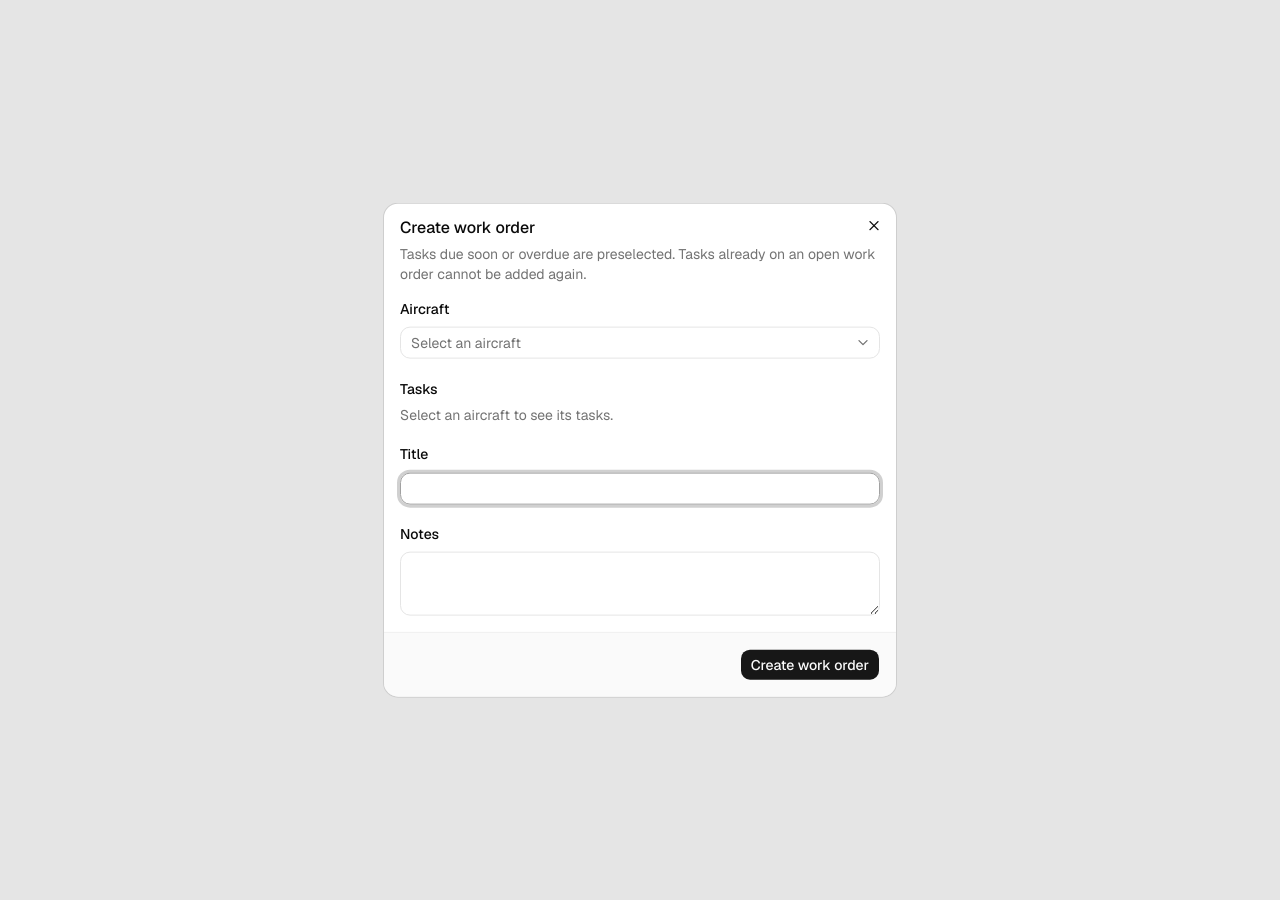
Test: CreateWorkOrderDialog › offers only aircraft that are not retired, and loads tasks for the chosen one
Step 1. Click the dropdown labelled "aircraft" → point(466, 343), box [400, 327, 880, 359]
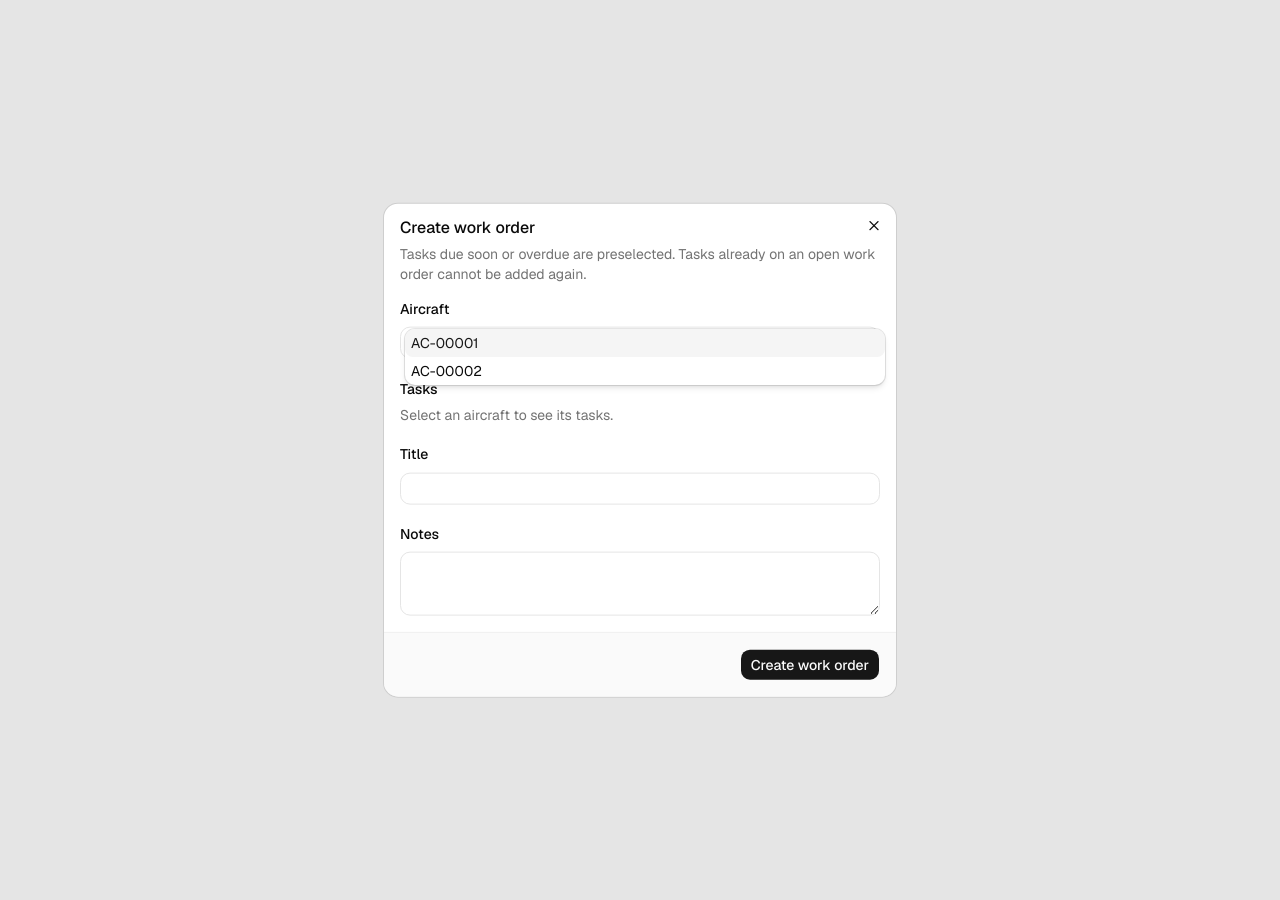
Step 2. Click the option "AC-00001" → point(445, 343), box [405, 329, 885, 357]
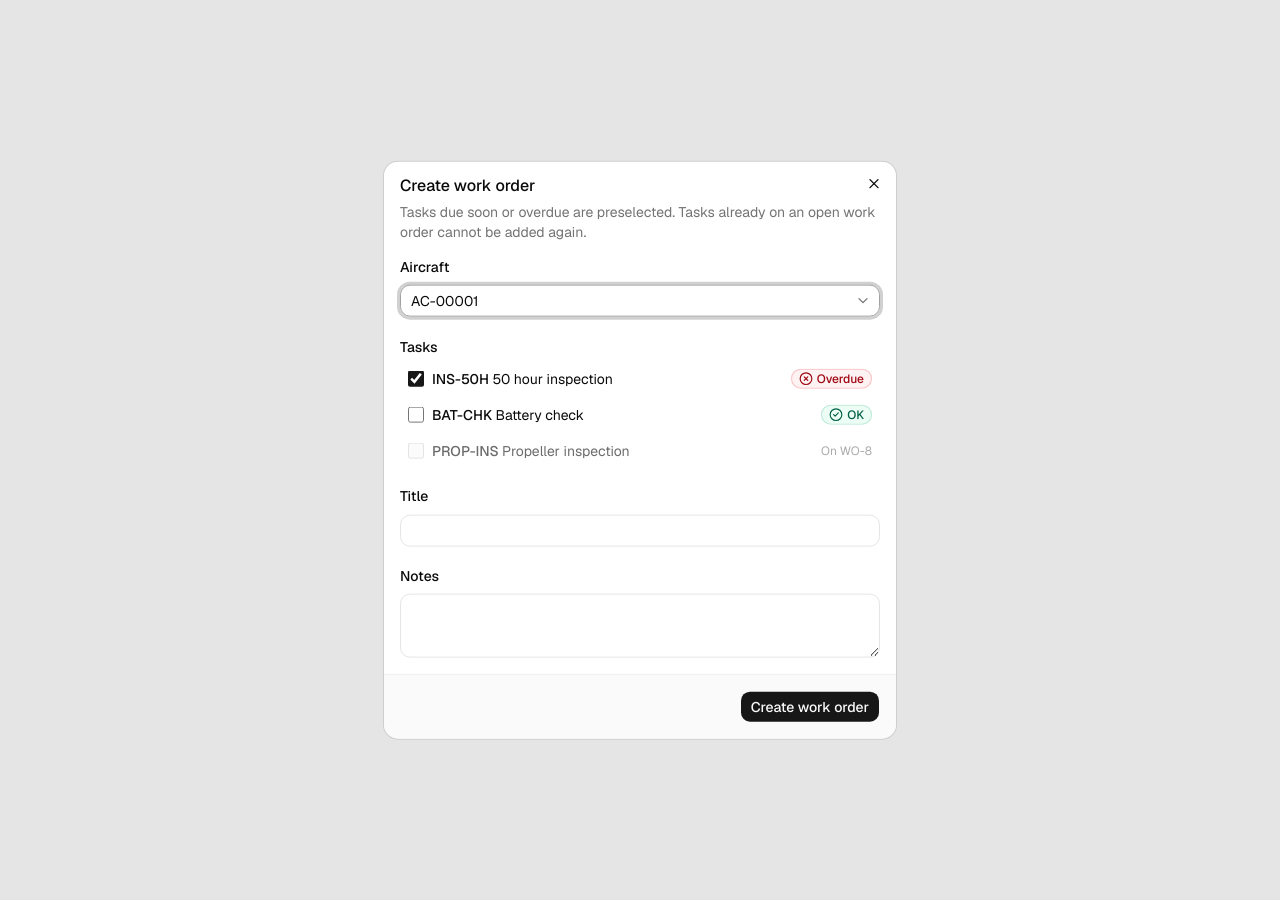
expect the checkbox labelled "INS-50H 50 hour inspection Overdue" is checked: met, box [408, 371, 424, 387]
